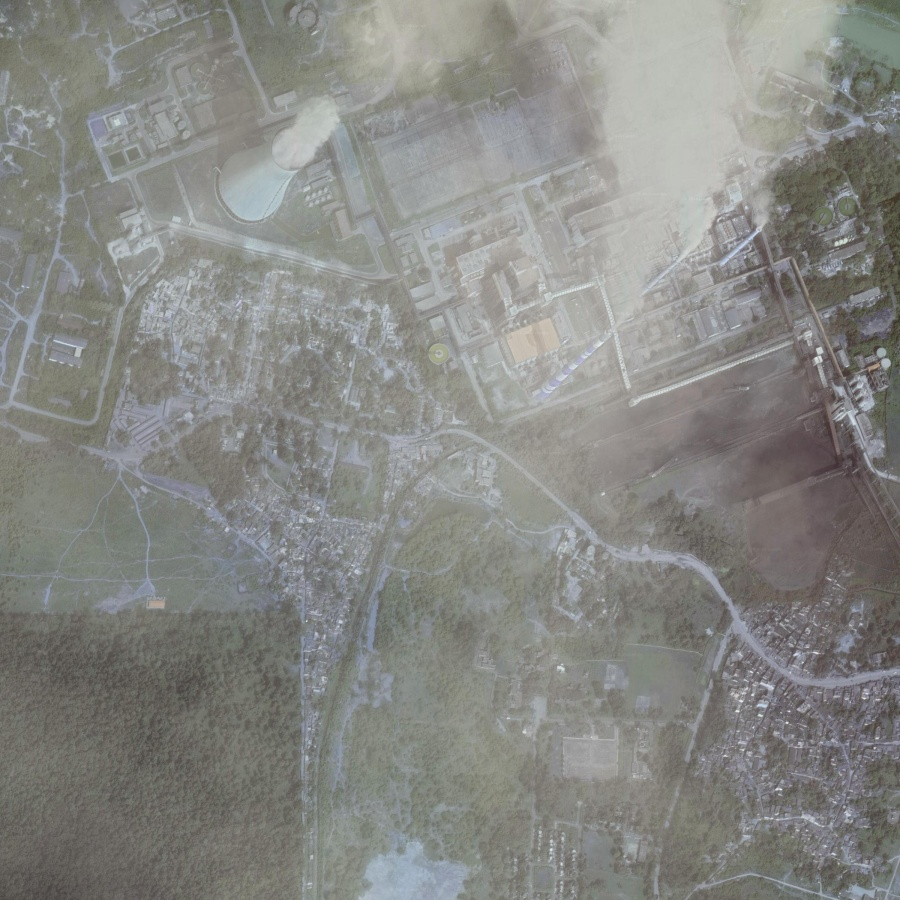PowerPlant: (499, 149, 789, 430), (208, 56, 363, 267)
